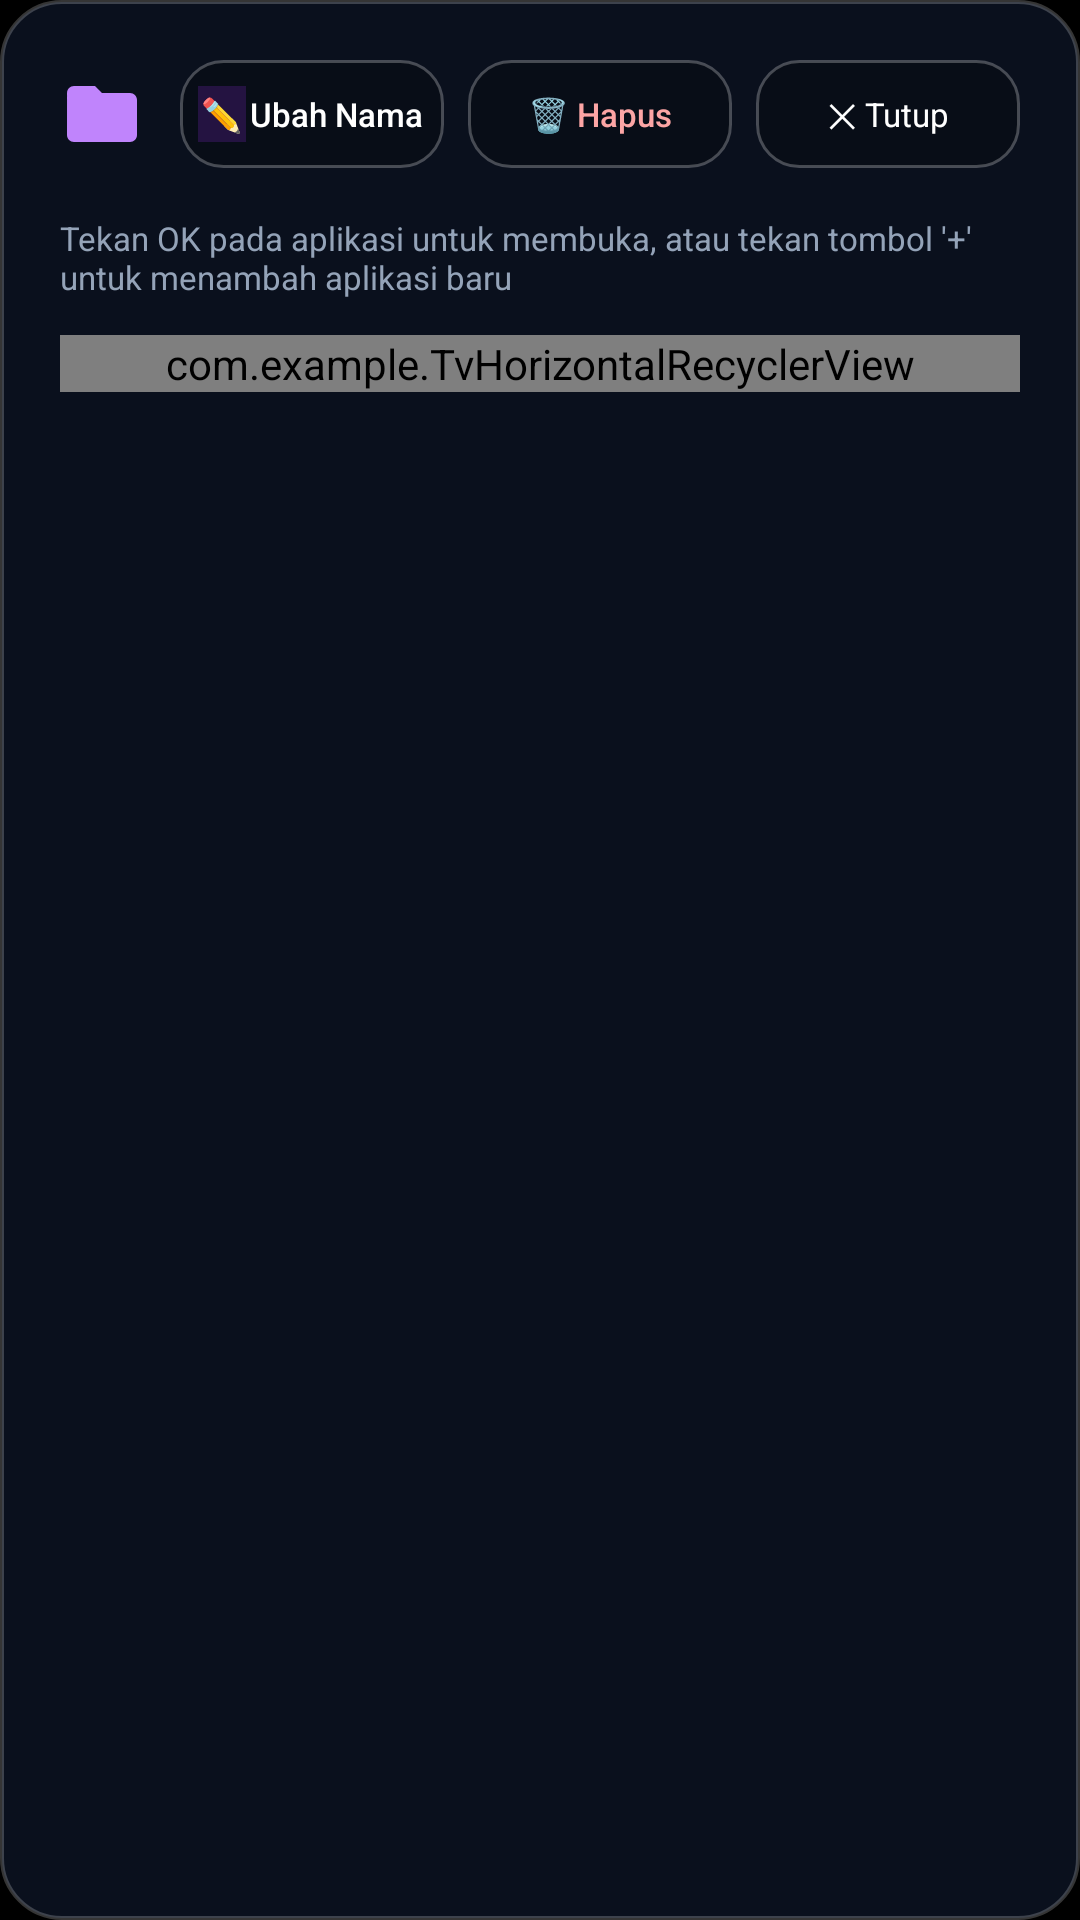

Named icons in this screenshot (1080 x 1920) and their bounding boxes, (x1, y1, x2, y2):
Folder Icon: (67, 86, 137, 142)
